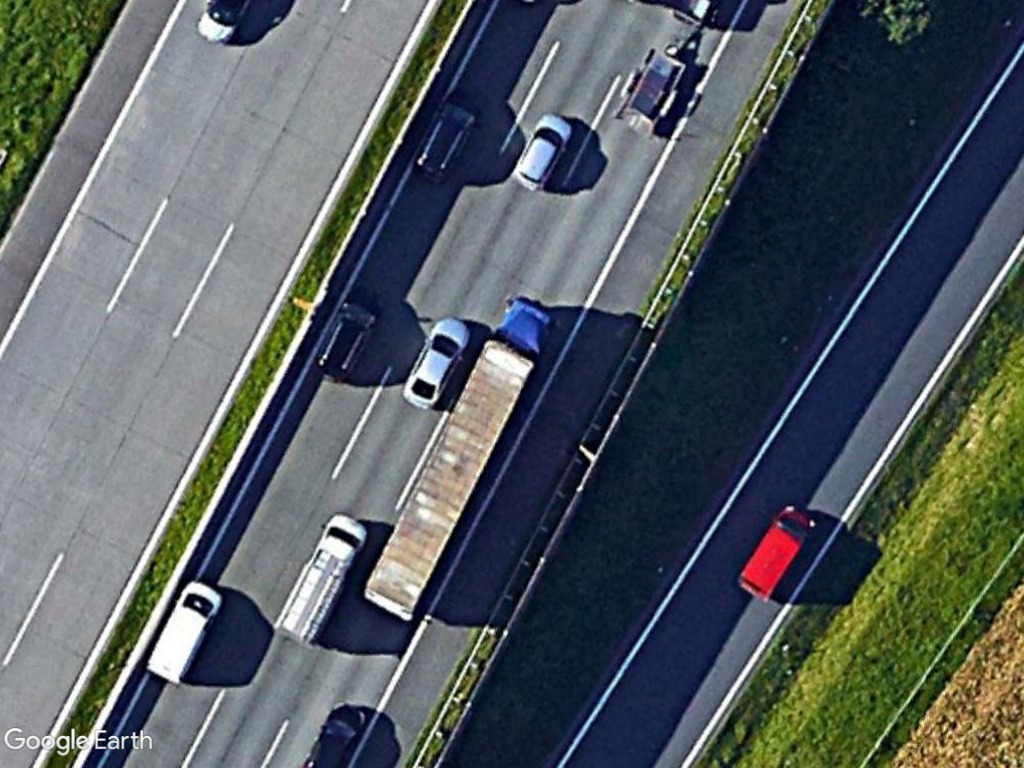car: (308, 284, 387, 388), (410, 83, 486, 186), (398, 310, 473, 411), (508, 103, 582, 197)
longvehicle: (353, 294, 558, 627)
van: (268, 505, 373, 652), (731, 497, 825, 607), (143, 573, 227, 687)
